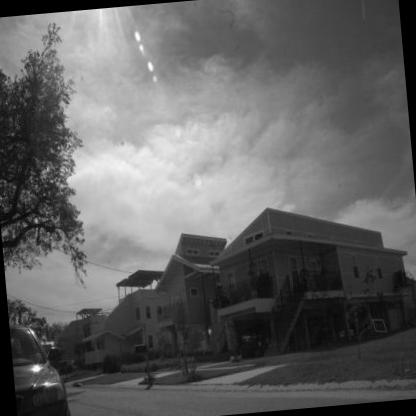car: (9, 312, 77, 416)
